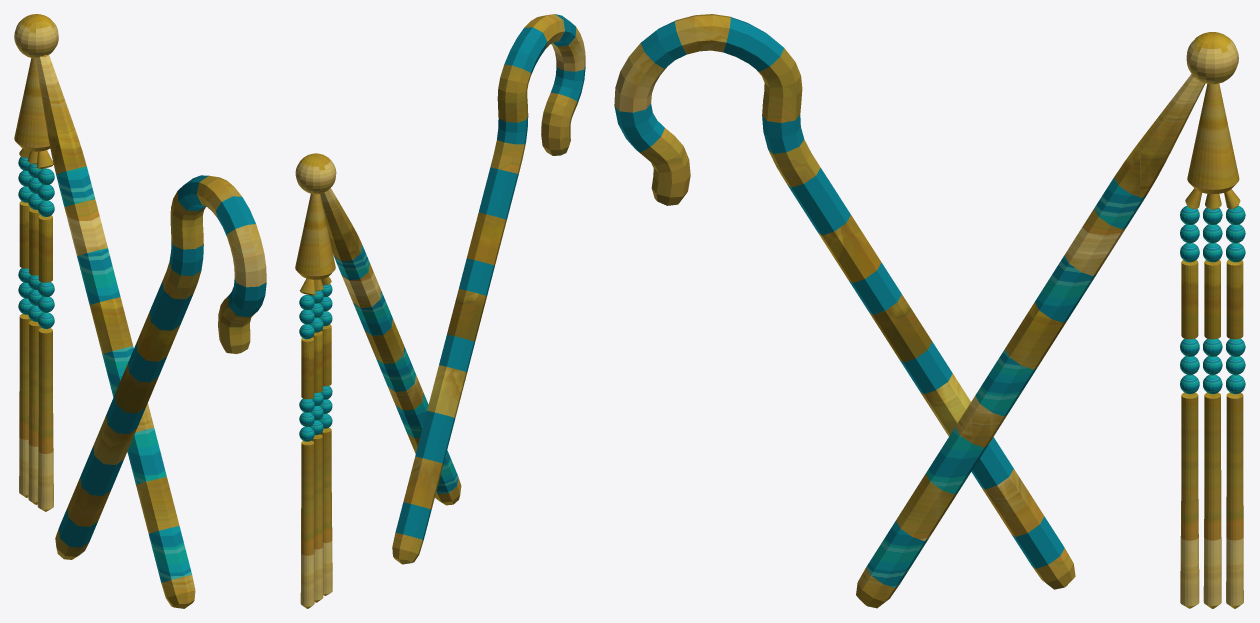
File: Item_Nummer_5.fbx
The picture shows the model from 3 angles, left to right: view 1: azimuth 30°, elevation 25°; view 2: azimuth 150°, elevation 25°; view 3: azimuth 270°, elevation 25°; orthographic projection. The views are drawn at different scales.
Visible parts, largest first — view 1: Sphere.015; view 2: Sphere.015; view 3: Sphere.015.
Boxes of the visible parts, <box> form: Sphere.015: <box>14,14,266,608</box>; Sphere.015: <box>295,14,585,608</box>; Sphere.015: <box>614,14,1245,608</box>.
Size of the model in its own units: 9.59 by 67.83 by 67.5.
2 materials, 2 textured.
